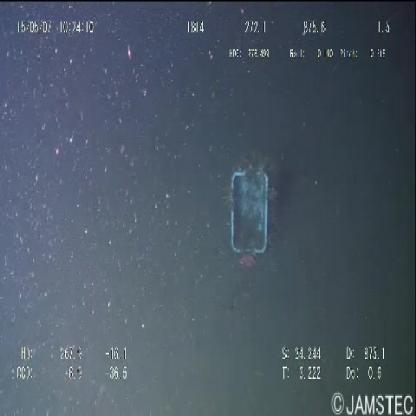Rác: (220, 154, 278, 279)
